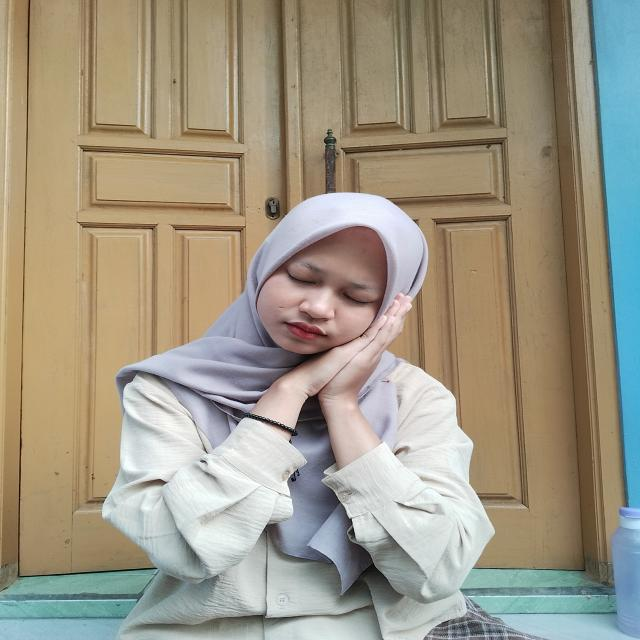tidur: (224, 294, 426, 476)
